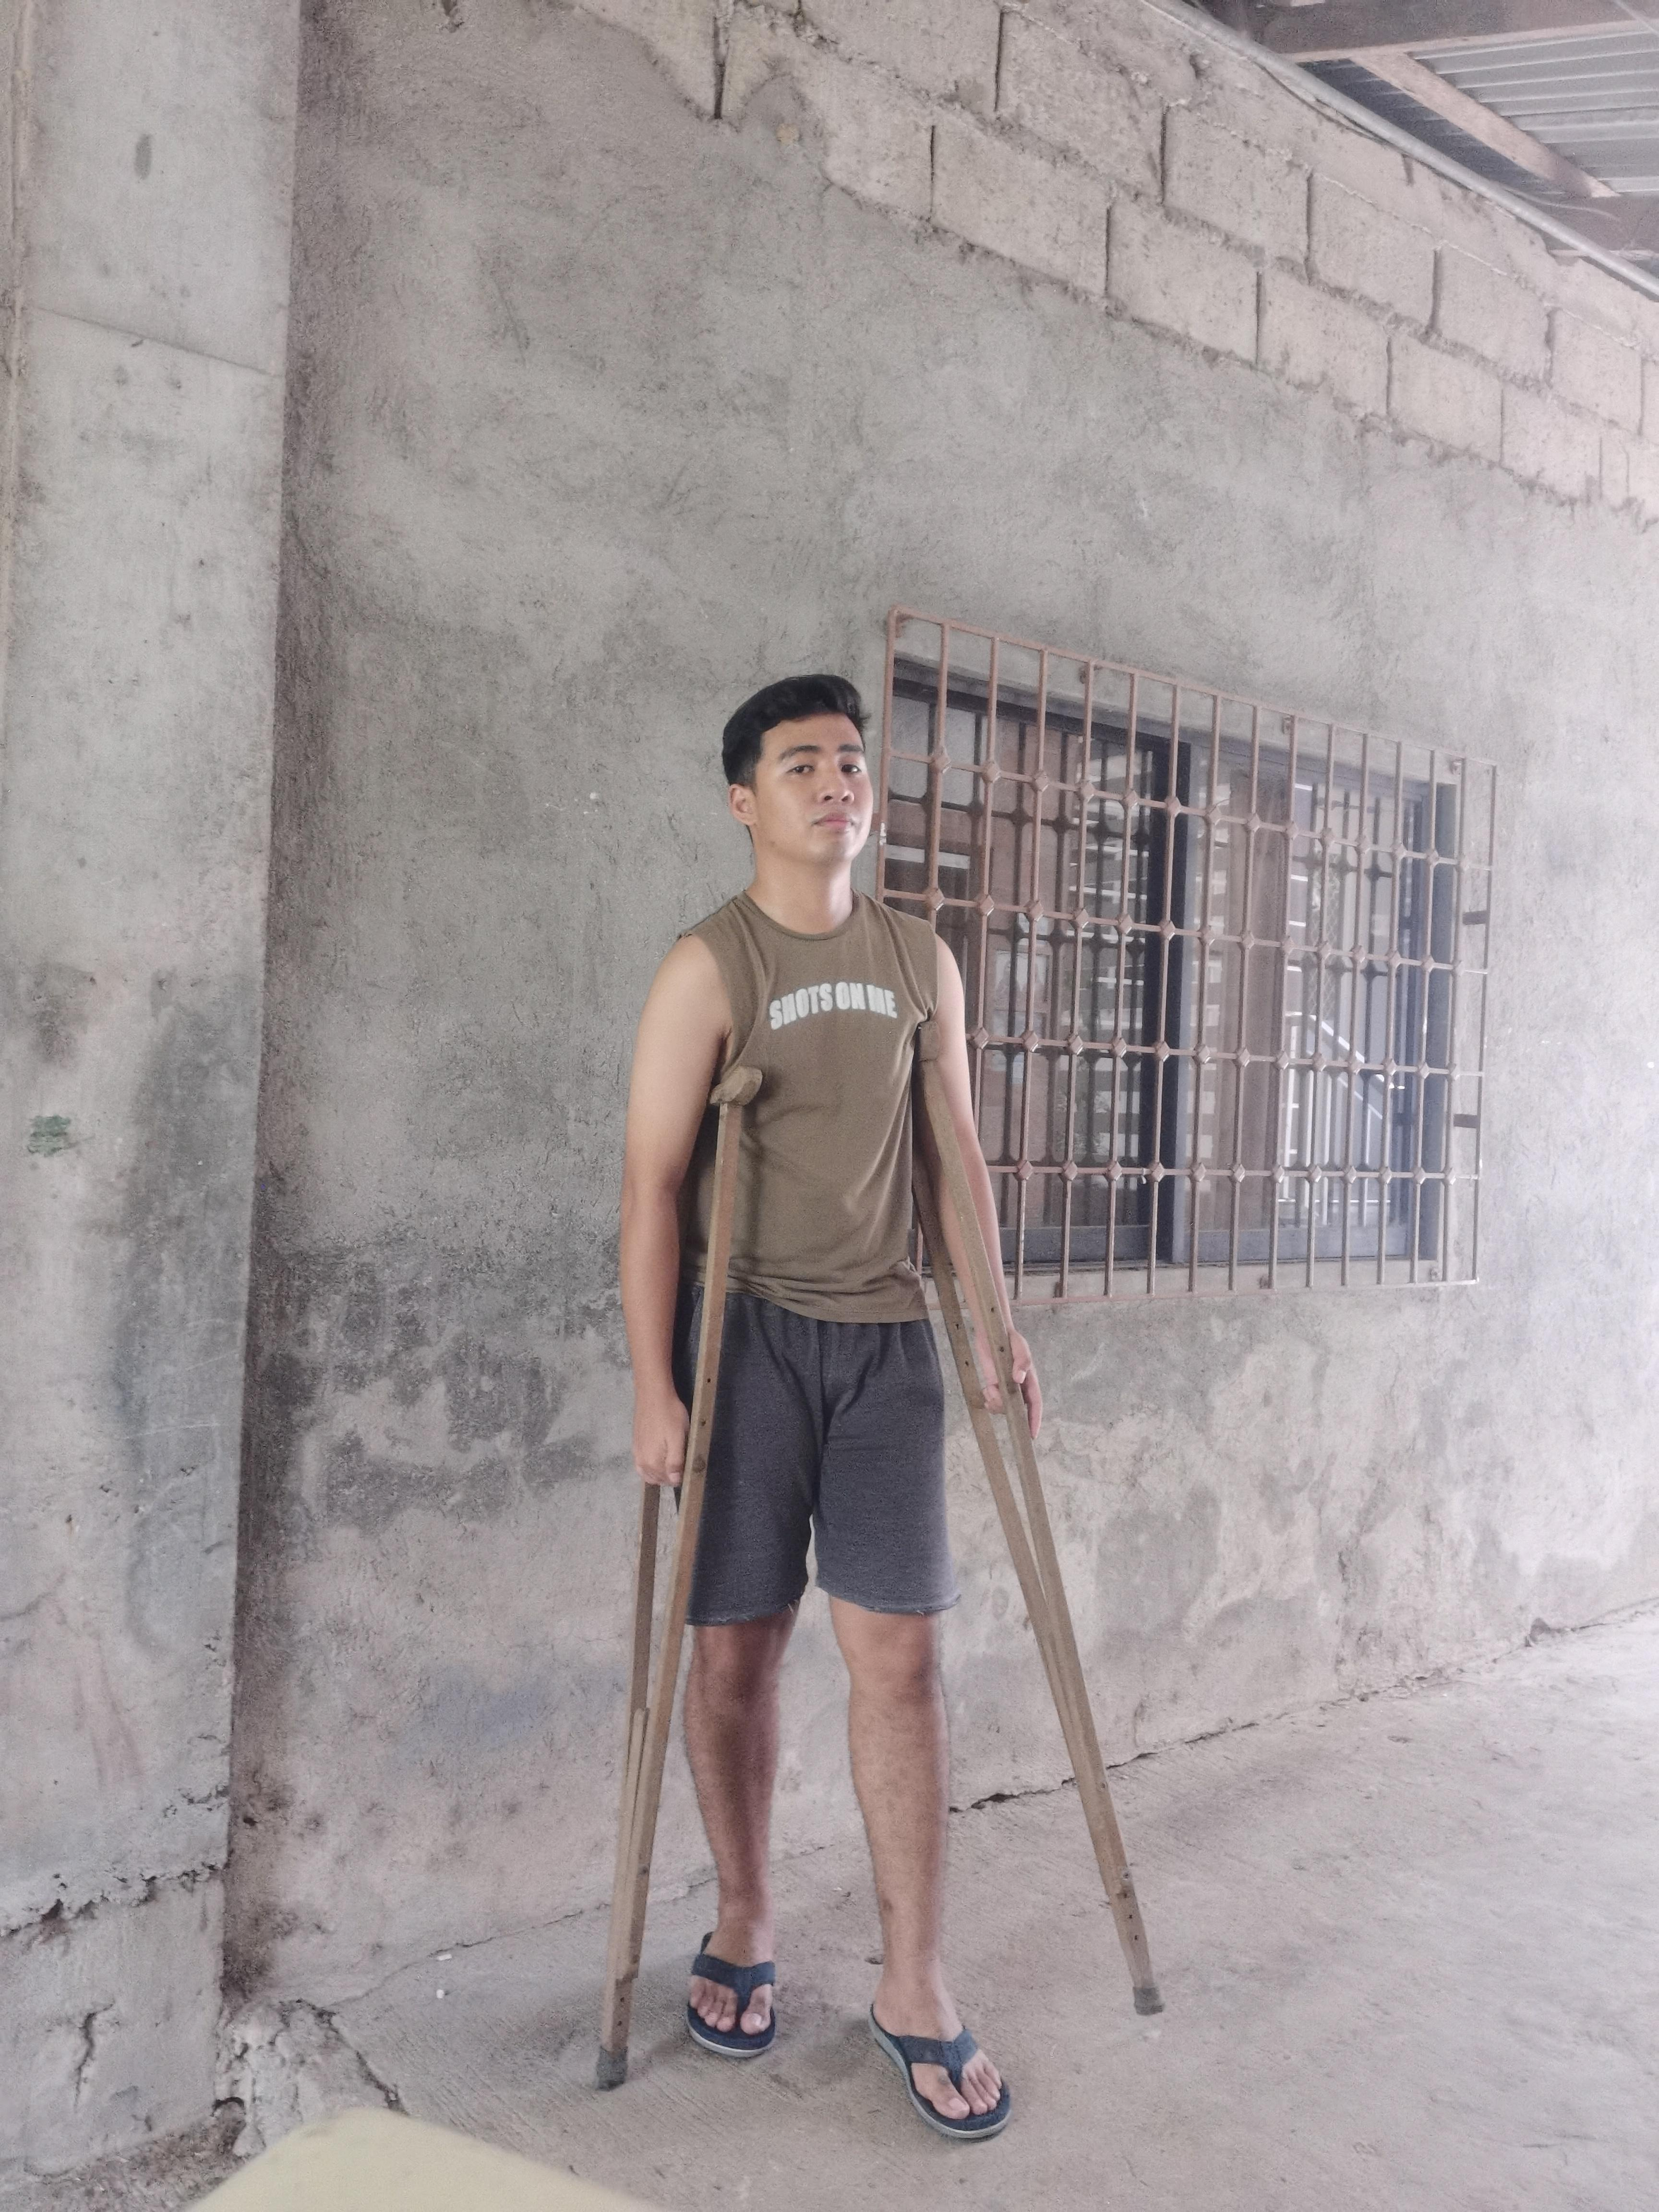crutches: (582, 658, 1175, 2158)
